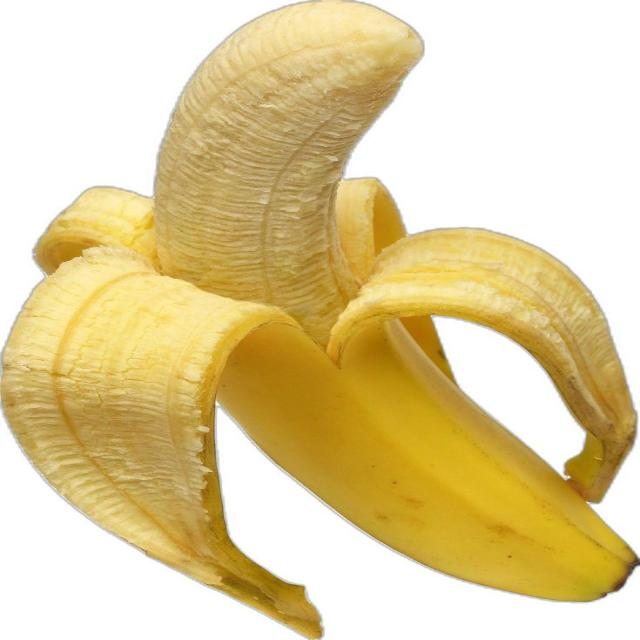banana: (3, 0, 637, 636)
